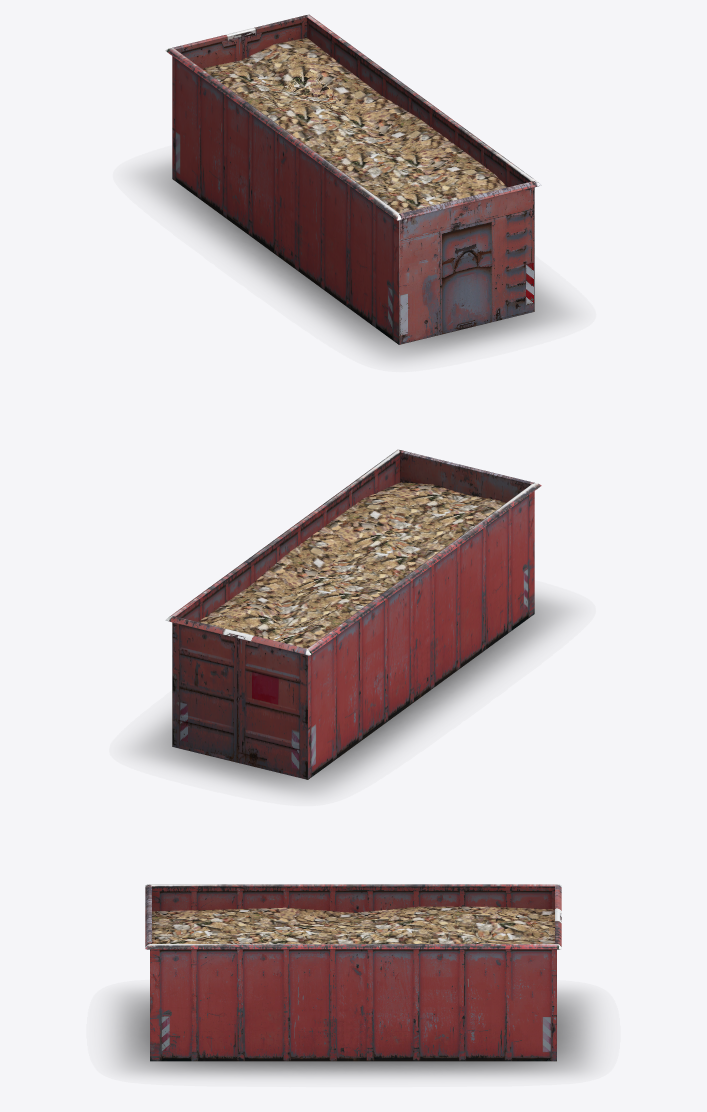
Rendered from Garbage_Container_Red.gltf.
The picture shows the model from 3 angles, top to bottom: view 1: azimuth 30°, elevation 25°; view 2: azimuth 150°, elevation 25°; view 3: azimuth 270°, elevation 25°; orthographic projection. The views are drawn at different scales.
Visible parts, largest first — view 1: Garbage_Container_Red; view 2: Garbage_Container_Red; view 3: Garbage_Container_Red.
Boxes of the visible parts, left/top/right/bottom form: Garbage_Container_Red: left=142, top=14, right=566, bottom=358; Garbage_Container_Red: left=139, top=449, right=565, bottom=792; Garbage_Container_Red: left=114, top=884, right=592, bottom=1075.
Bounding box in the file's own units: 5.07 × 2.11 × 11.05.
